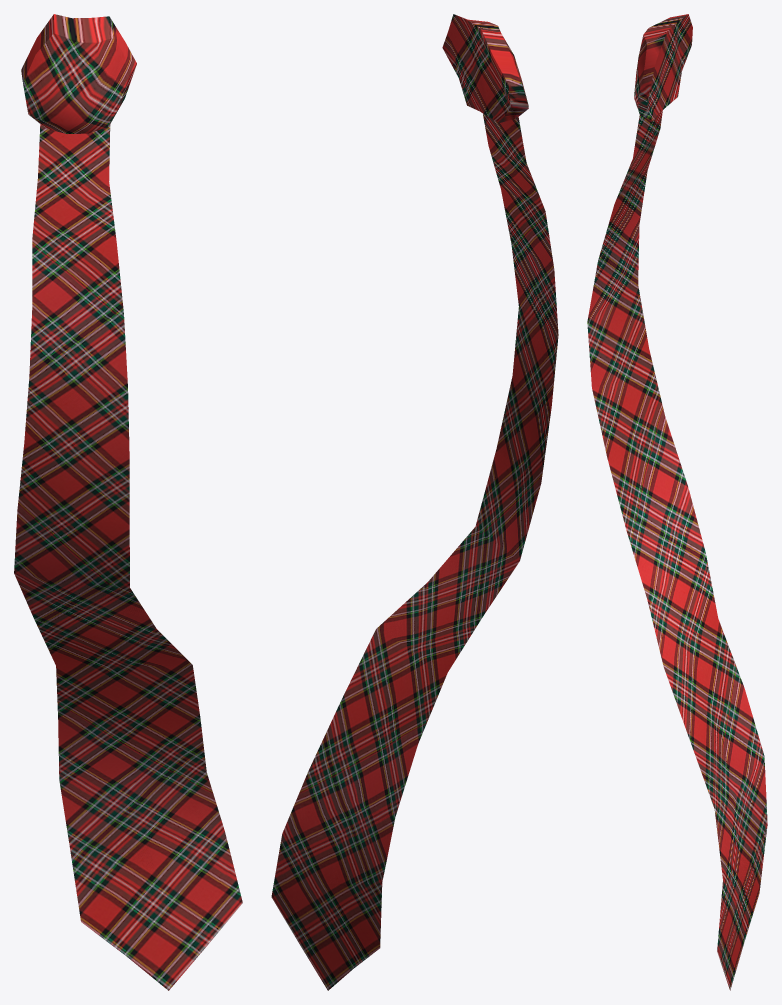
Rendered from Pose-9_SuitTie-1.fbx.
The picture shows the model from 3 angles, left to right: view 1: azimuth 30°, elevation 25°; view 2: azimuth 150°, elevation 25°; view 3: azimuth 270°, elevation 25°; orthographic projection. The views are drawn at different scales.
Parts seen in each view (by area): view 1: Pose-9_SuitTie-1; view 2: Pose-9_SuitTie-1; view 3: Pose-9_SuitTie-1.
Boxes of the visible parts, x1,y1,x2,y2 form: Pose-9_SuitTie-1: (14,14,242,990); Pose-9_SuitTie-1: (271,14,558,990); Pose-9_SuitTie-1: (587,14,767,990).
Size of the model in its own units: 12.64 by 48.16 by 8.58.
